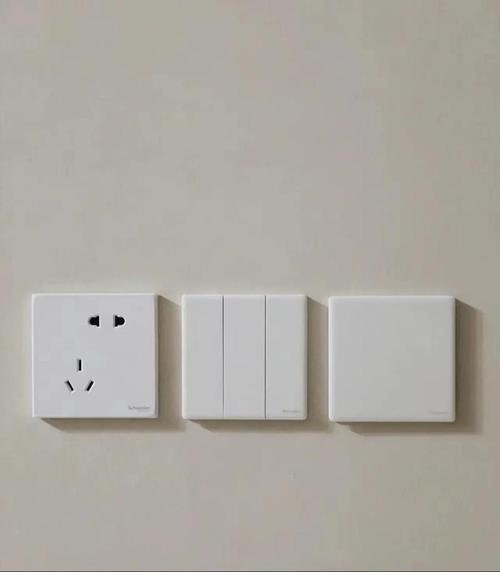button: (179, 292, 309, 423), (326, 294, 454, 424)
